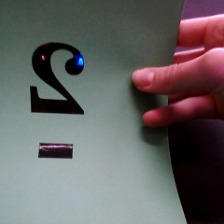green2: (22, 36, 91, 166)
